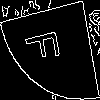F: (24, 25, 68, 66)
